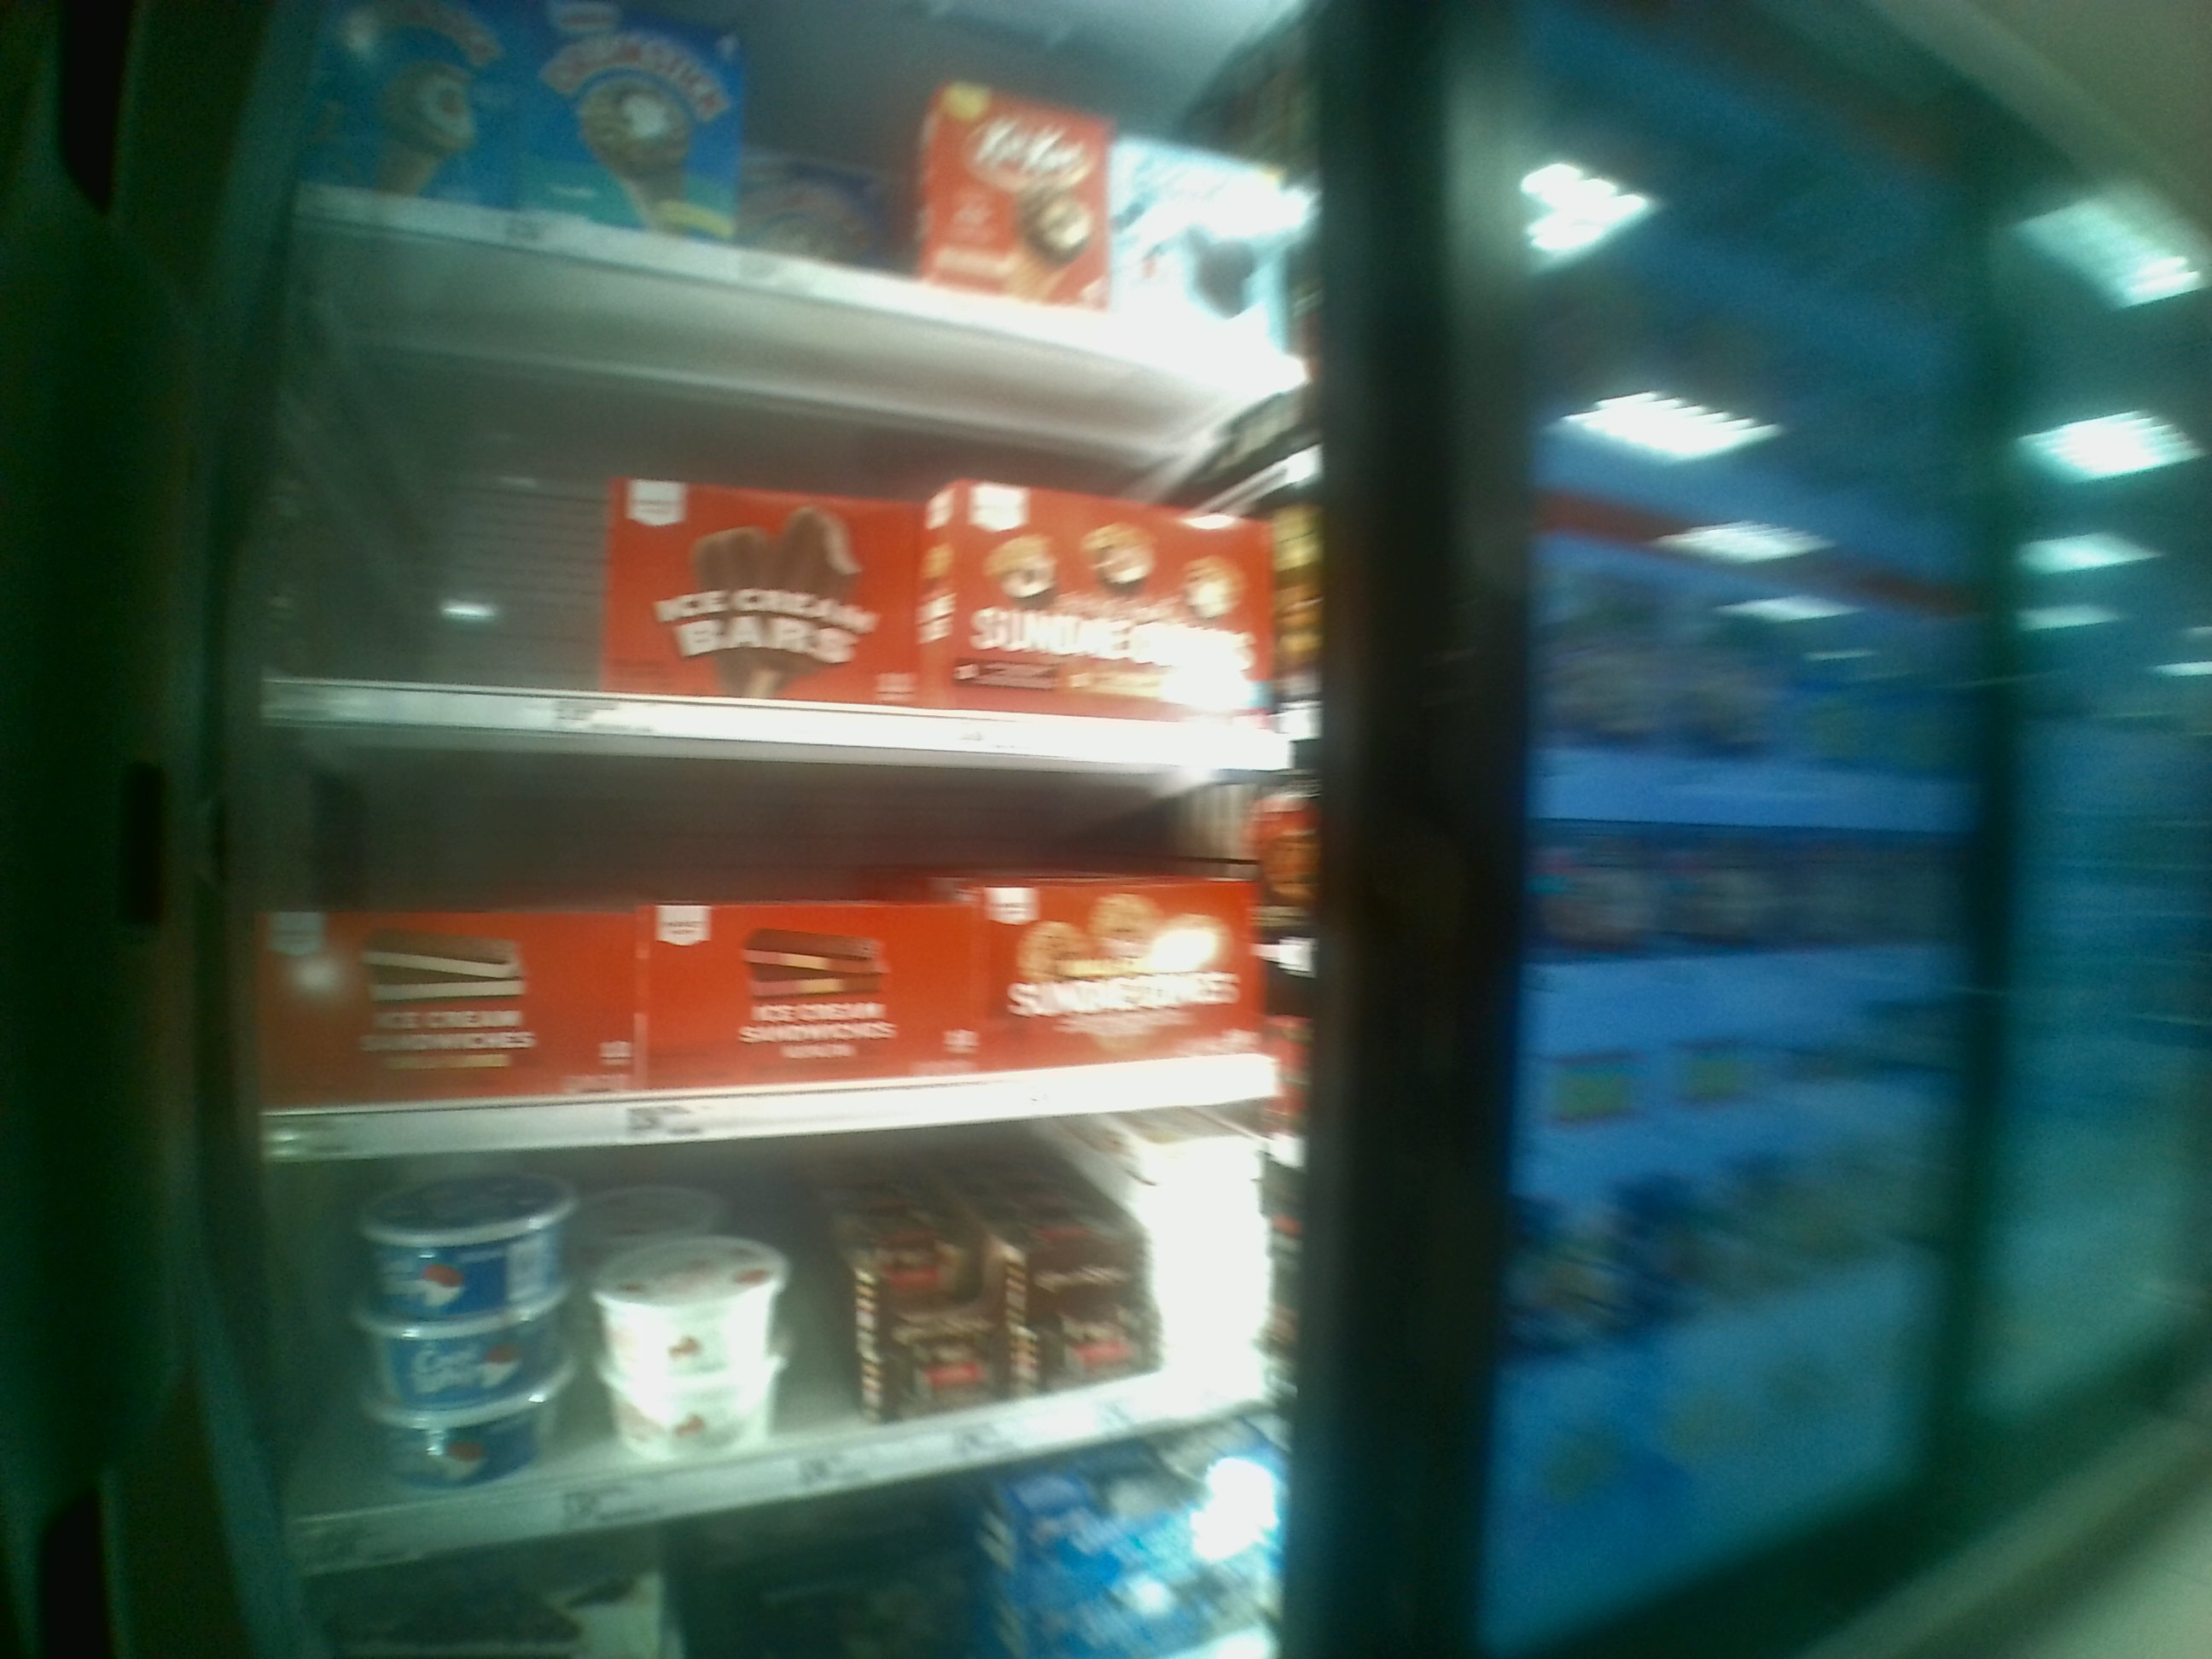shelf: (273, 214, 1318, 763), (263, 1094, 1303, 1572), (230, 728, 1308, 1162)
